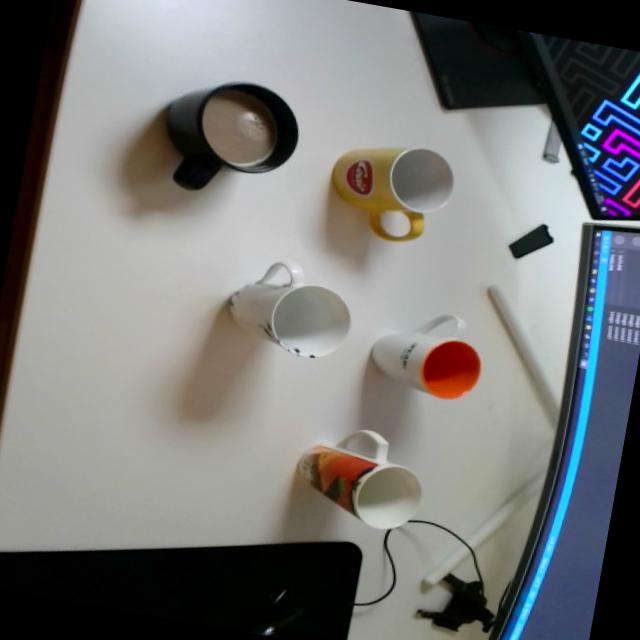Cocio Cup: (320, 134, 458, 252)
Cup: (148, 68, 308, 209)
Halloween cup: (285, 418, 433, 534)
Hand painted cup: (219, 252, 357, 366)
White Cup: (362, 299, 489, 405)
